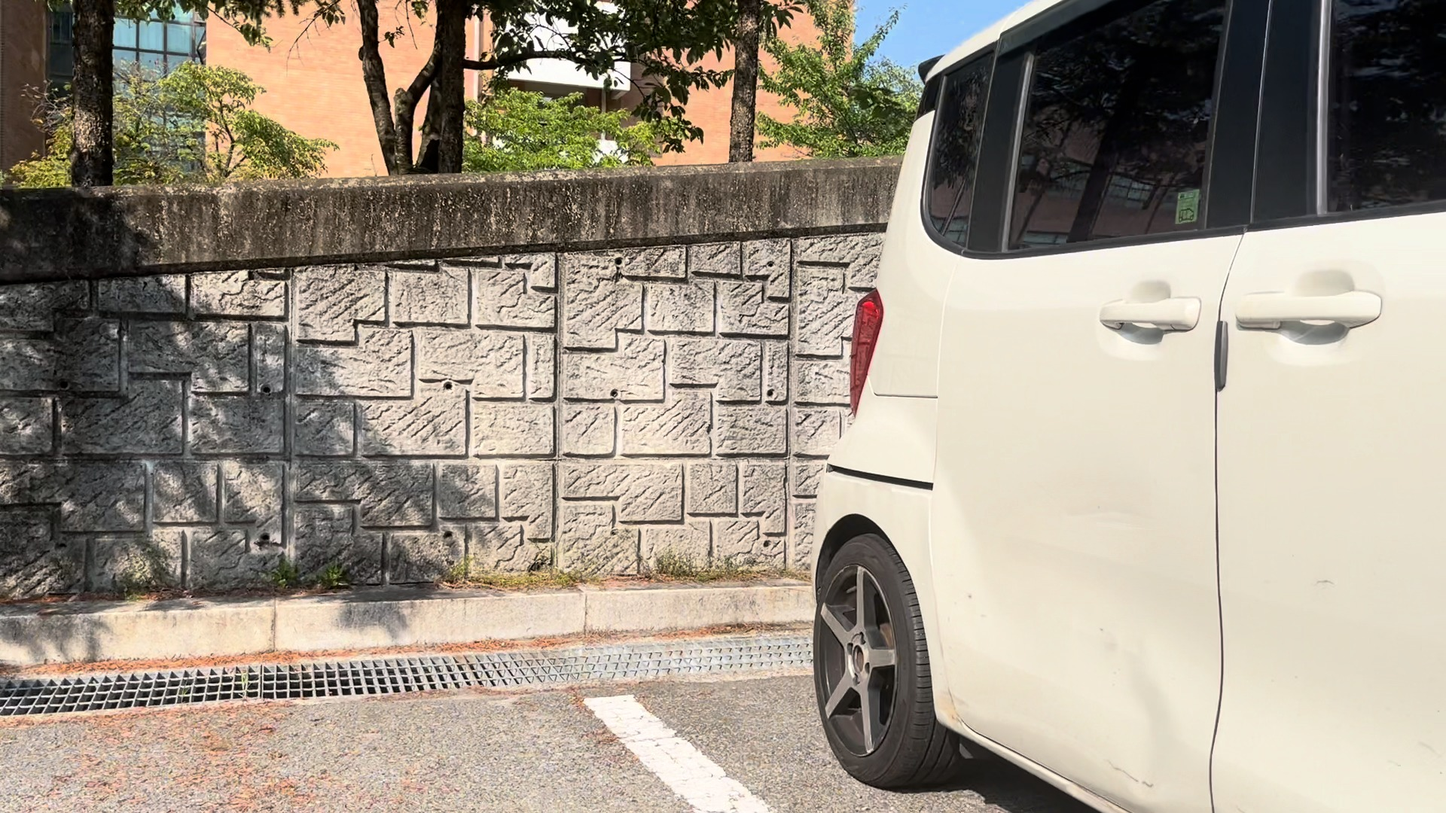door_handle: (1232, 295, 1387, 318), (1093, 299, 1202, 325)
tail_light: (847, 292, 882, 419)
